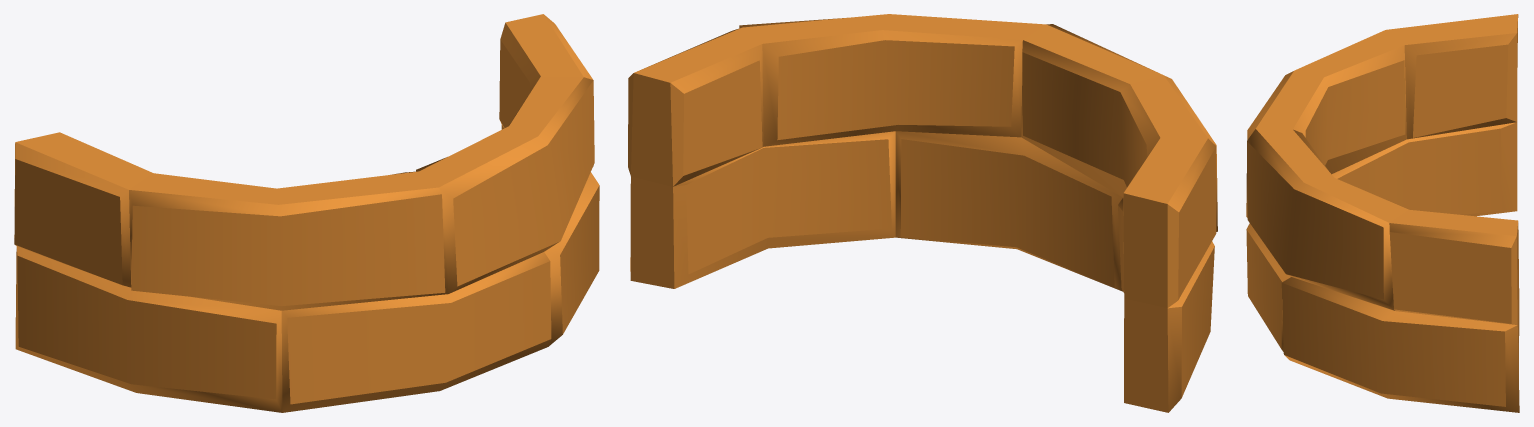
File: mudBrickKilnSection.glb
The picture shows the model from 3 angles, left to right: view 1: azimuth 30°, elevation 25°; view 2: azimuth 150°, elevation 25°; view 3: azimuth 270°, elevation 25°; orthographic projection. The views are drawn at different scales.
Visible parts, largest first — view 1: Cube; view 2: Cube; view 3: Cube.
Boxes of the visible parts, box(x1,y1,x2,y2) form: Cube: box(14, 14, 599, 412); Cube: box(628, 14, 1217, 412); Cube: box(1246, 14, 1519, 412).
Size of the model in its own units: 2.01 by 0.7329 by 1.01.
